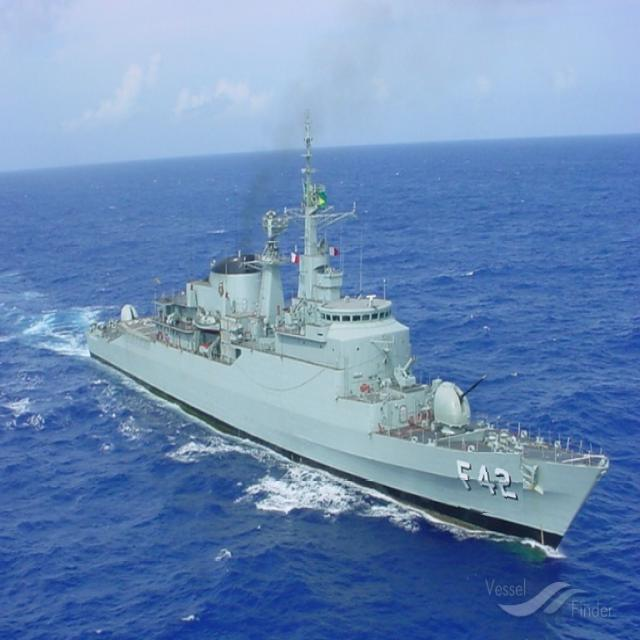OCR: (450, 452, 523, 516)
